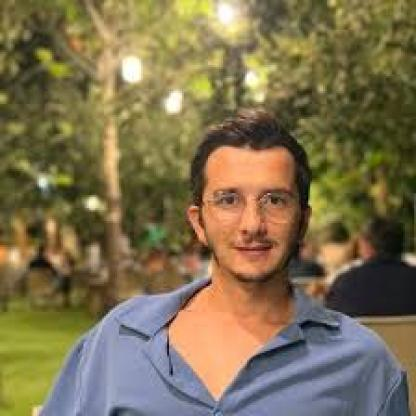person: (189, 118, 316, 288)
